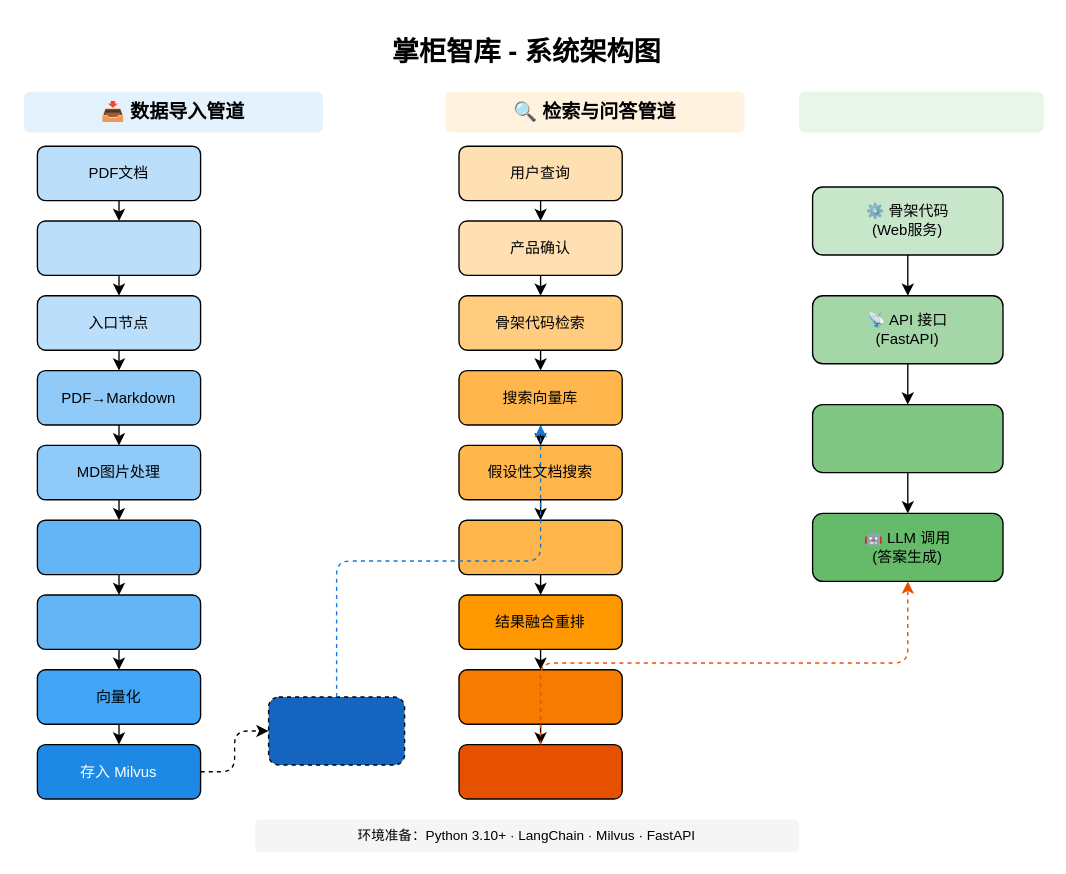
The diagram is 1066 pixels wide and 874 high, and some of its shapes have lost their labels. Each missing label, with the box of its shape:
Rerank 重排: (458, 668, 622, 724)
主体识别: (36, 594, 201, 649)
文档切片: (36, 519, 201, 575)
网络搜索: (458, 519, 622, 575)
骨架代码: (36, 220, 201, 275)
🌐 Web 服务层: (798, 91, 1043, 132)
📤 答案输出: (458, 743, 622, 799)
🖥️ 前端页面: (811, 403, 1003, 473)
🧠 Milvus 向量数据库: (267, 696, 405, 765)
